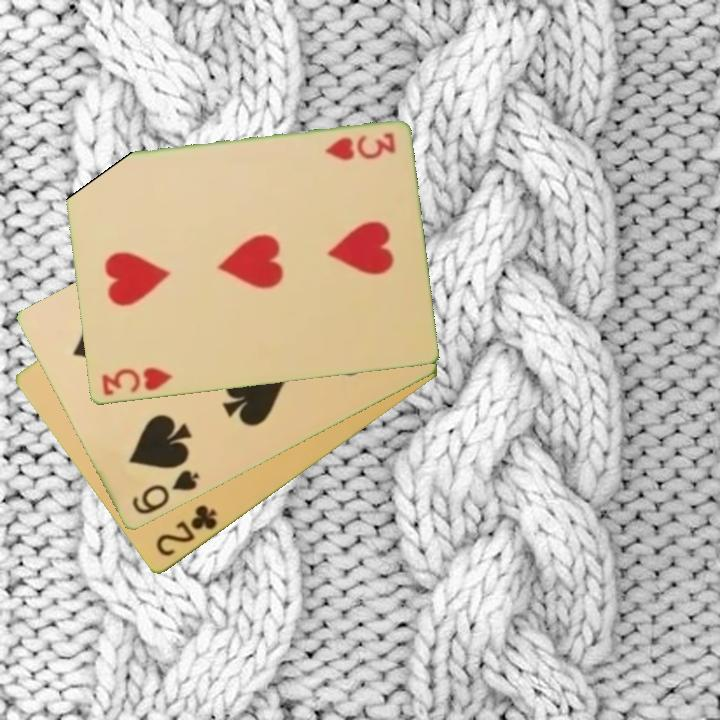2c: (152, 501, 221, 560)
3h: (98, 364, 175, 399), (321, 129, 398, 164)
6s: (128, 466, 202, 518)
